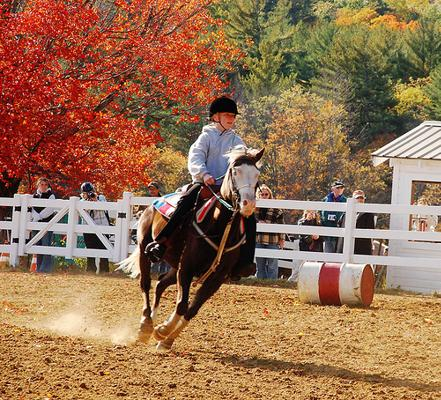person: (148, 96, 259, 286)
